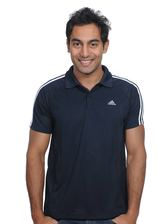clothoes: (28, 70, 149, 223)
